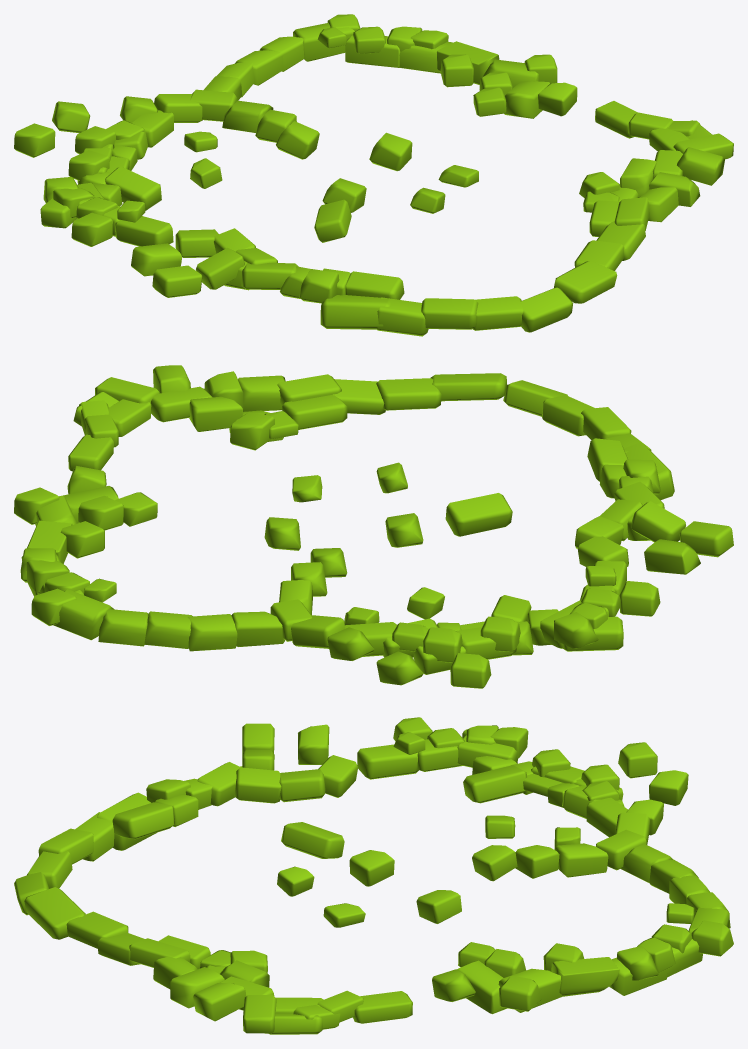
Rendered from Floor_Break_C_05A_Lod0.fbx.
3 renders of one model, top to bottom at view 1: azimuth 30°, elevation 25°; view 2: azimuth 150°, elevation 25°; view 3: azimuth 270°, elevation 25°, orthographic. The views are drawn at different scales.
Visible parts, largest first — view 1: Floor_Break_C_05A_Lod0; view 2: Floor_Break_C_05A_Lod0; view 3: Floor_Break_C_05A_Lod0.
Boxes of the visible parts, <box> form: Floor_Break_C_05A_Lod0: <box>14,14,733,336</box>; Floor_Break_C_05A_Lod0: <box>14,365,733,688</box>; Floor_Break_C_05A_Lod0: <box>14,717,733,1034</box>.
Bounding box in the file's own units: 801 × 65.88 × 807.
